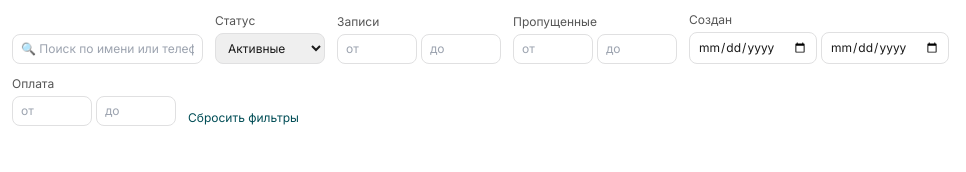
ClientsFilters — controlled search input (GH #216 / #349 canonical q) › type → «Сбросить фильтры» within 300ms: reset wins, timer cancelled, box cleared
Type "а" into the field with placeholder "🔍 Поиск по имени или телефону" at (108, 49), box [12,34,203,64]
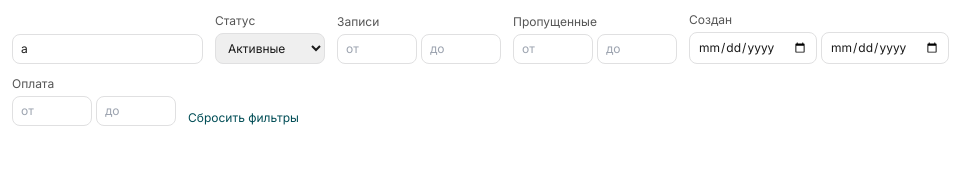
Click the button "Сбросить фильтры" at (243, 118), box [188,110,299,126]
Wait 400 ms
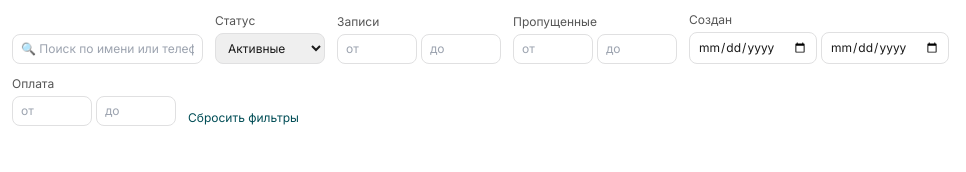
Now the field with placeholder "🔍 Поиск по имени или телефону" is empty, box [12,34,203,64]
